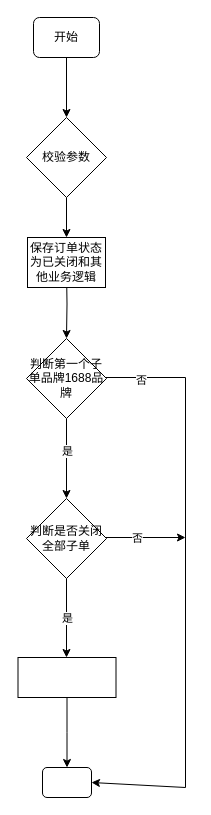
Image size: 211x815. Some labels were removed from this diagram. Here are the shapes that lost their labels. From the top down, the centre of each, then its label:
[66,677]: 更新标记状态为未付款
[67,782]: 结束
